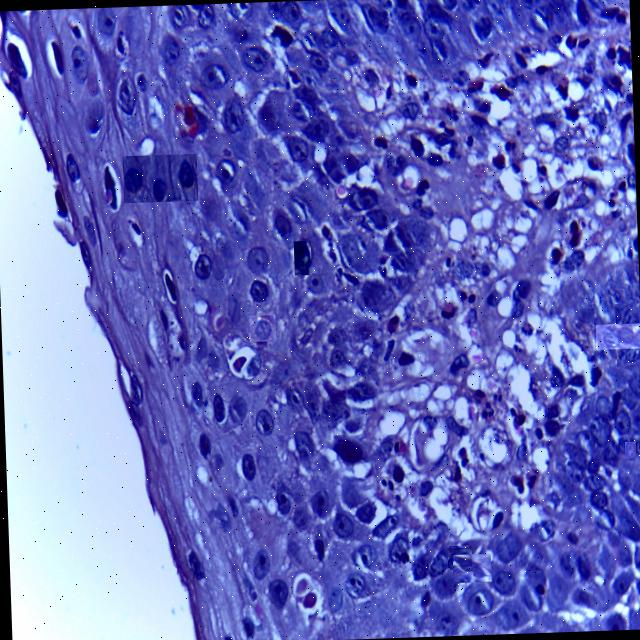Multiple Nucleol: (122, 154, 196, 202), (595, 324, 640, 349), (453, 554, 490, 581), (248, 314, 274, 342), (292, 240, 310, 275), (447, 548, 470, 568), (623, 442, 635, 458)
